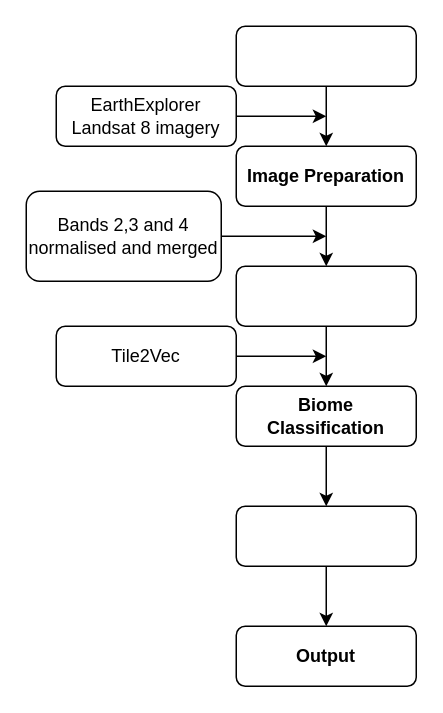
Some shapes in this 443 by 713 pixel diagram are drawn without their labels. Here are the shapes that lost their labels. From the top down, the box of each, then its label:
(235, 25, 416, 86): Data Acquisition
(235, 265, 416, 326): Machine Learning
(235, 505, 416, 566): Biome Size Comparison
